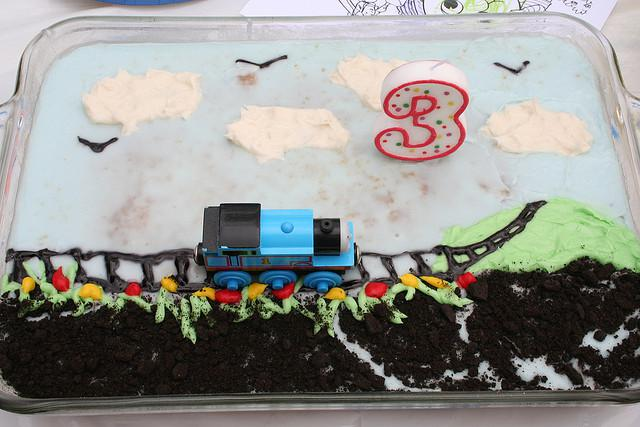Train: (193, 204, 368, 297)
